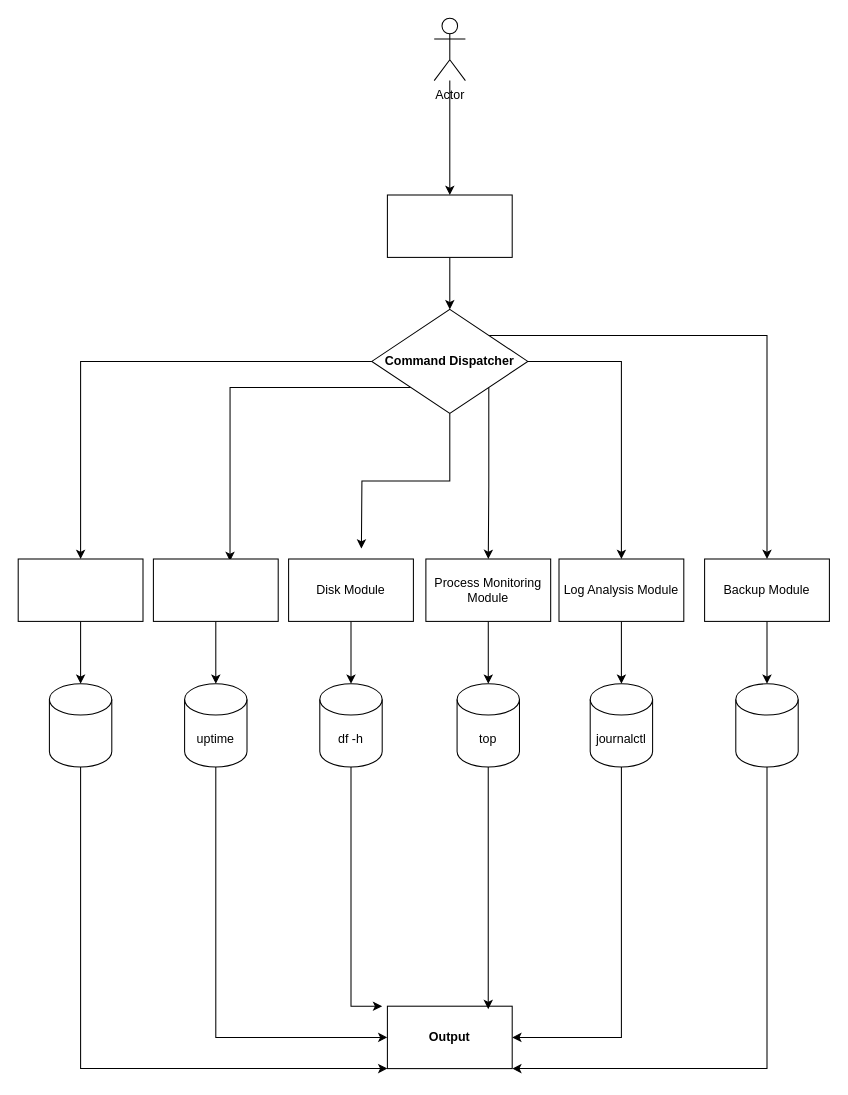
The diagram is 848 pixels wide and 1095 high, and some of its shapes have lost their labels. The centre of each missing label's shape, as x and y in pixels:
"rsync" belongs at (766,725).
"Service Module" belongs at (80,589).
"sysopctl" belongs at (449,225).
"System Module" belongs at (215,589).
"systemctl" belongs at (80,725).
